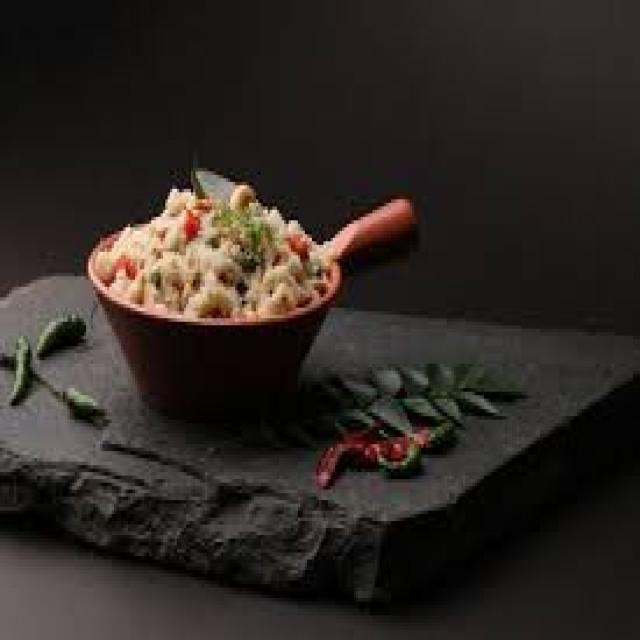UPMA: (91, 168, 330, 311)
